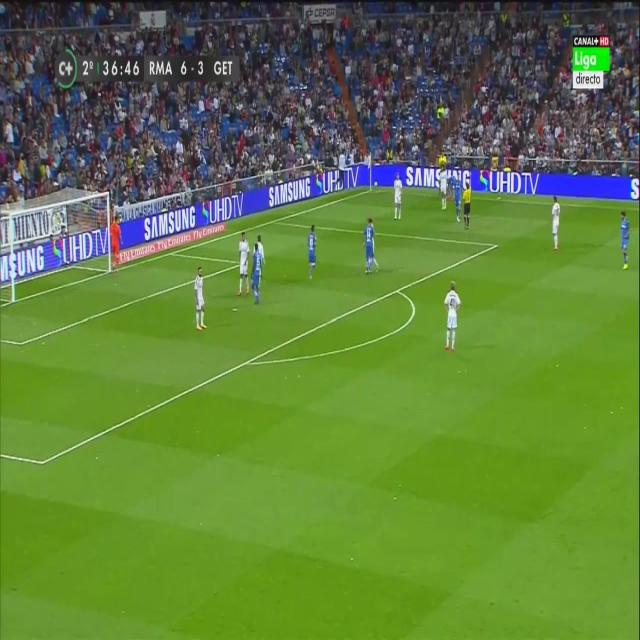Ball: (374, 178, 378, 188)
Goalkeeper: (110, 215, 124, 272)
Player: (443, 280, 461, 353), (193, 266, 209, 336), (236, 231, 251, 301), (361, 217, 377, 278), (251, 242, 266, 306), (306, 222, 318, 284), (619, 209, 631, 271), (550, 194, 562, 254), (392, 172, 404, 224), (452, 173, 464, 223), (438, 164, 448, 212)
Referee: (462, 173, 474, 231)
